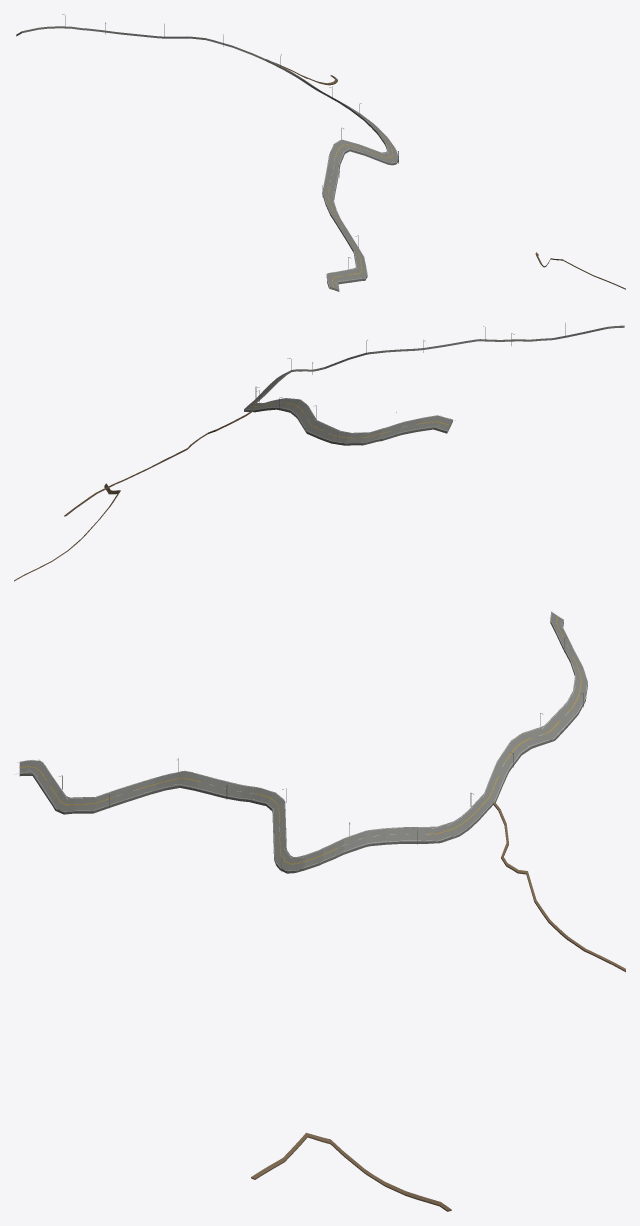
3 renders of one model, top to bottom at view 1: azimuth 30°, elevation 25°; view 2: azimuth 150°, elevation 25°; view 3: azimuth 270°, elevation 25°, orthographic. The views are drawn at different scales.
Bounding box in the file's own units: 295 × 183 × 295.
